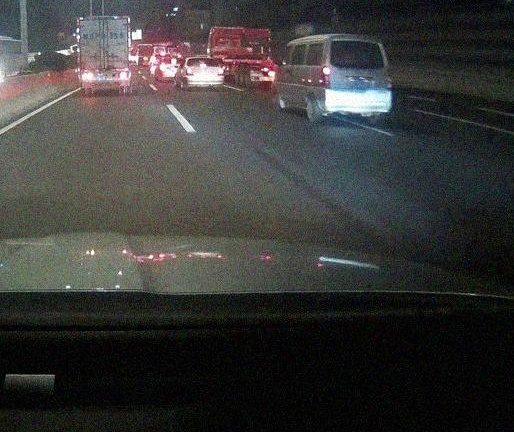L_light: (322, 66, 331, 86), (81, 72, 92, 79), (186, 68, 194, 75)
R_light: (117, 71, 129, 78), (387, 69, 392, 85), (218, 68, 223, 75)
T_light: (99, 19, 108, 22), (350, 41, 362, 43), (200, 64, 206, 67)
night-brake: (185, 57, 224, 91)
night-left: (321, 34, 392, 124)
night-no: (76, 17, 130, 94)
